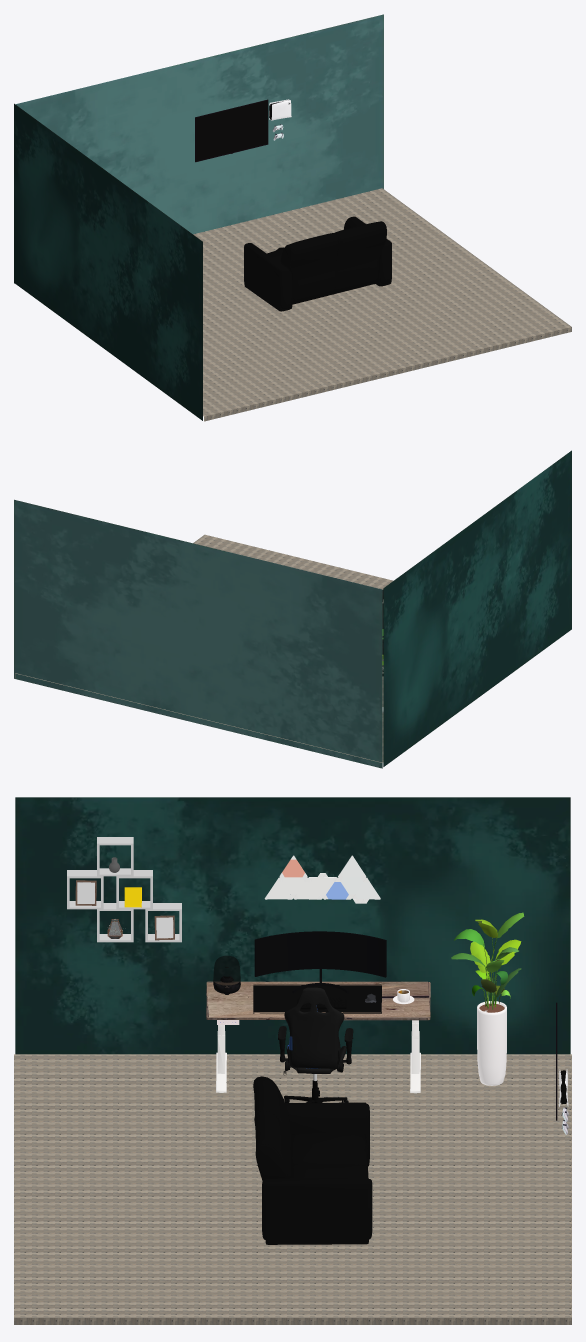
The model's file is offce12w-transformed.glb.
3 renders of one model, top to bottom at view 1: azimuth 30°, elevation 25°; view 2: azimuth 150°, elevation 25°; view 3: azimuth 270°, elevation 25°, orthographic. The views are drawn at different scales.
Visible parts, largest first — view 1: Wall2, Floor, Wall1, White shelf; view 2: Wall2, Wall1, Floor; view 3: Floor, Wall1, White shelf, Object_16, Chair_BackRest_Cloth_0, plant.001, pot.001, Object_2.001, Cube.002_Image.001_0, Chair_Back_Hinge_Plastic_0.
Part boxes in pixels (box(x1,y1,x2,y2)): Wall2: box(14, 14, 383, 283); Floor: box(193, 188, 571, 421); Wall1: box(14, 103, 202, 420); White shelf: box(195, 99, 391, 311); Wall2: box(14, 499, 382, 768); Wall1: box(383, 450, 571, 766); Floor: box(15, 534, 393, 762); Floor: box(14, 1054, 571, 1324); Wall1: box(15, 797, 570, 1054); White shelf: box(67, 837, 568, 1244); Object_16: box(206, 981, 430, 1020); Chair_BackRest_Cloth_0: box(284, 987, 346, 1073); plant.001: box(451, 912, 524, 1009); pot.001: box(393, 989, 506, 1085); Object_2.001: box(213, 955, 240, 994); Cube.002_Image.001_0: box(77, 882, 173, 938); Chair_Back_Hinge_Plastic_0: box(278, 1026, 353, 1075).
Size of the model in its own units: 40.58 by 18.94 by 36.1.
Materials: 28 (25 with a texture image).
